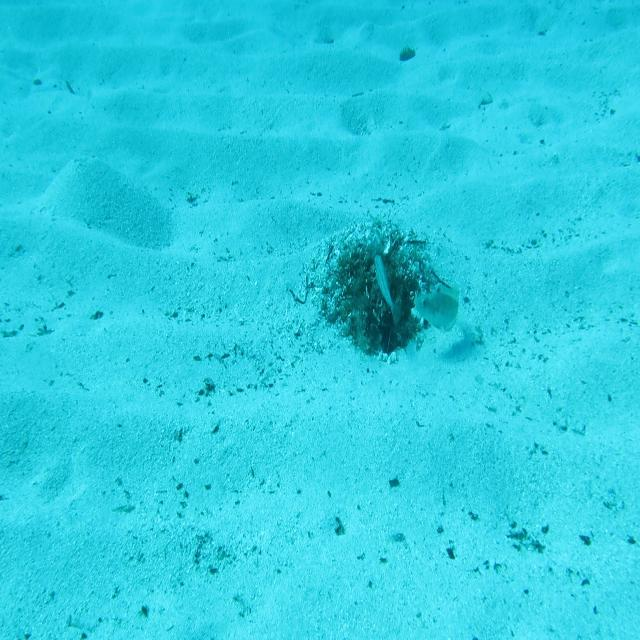BEND: (412, 274, 462, 334)
female: (368, 248, 409, 332)
nest: (316, 216, 449, 357)
